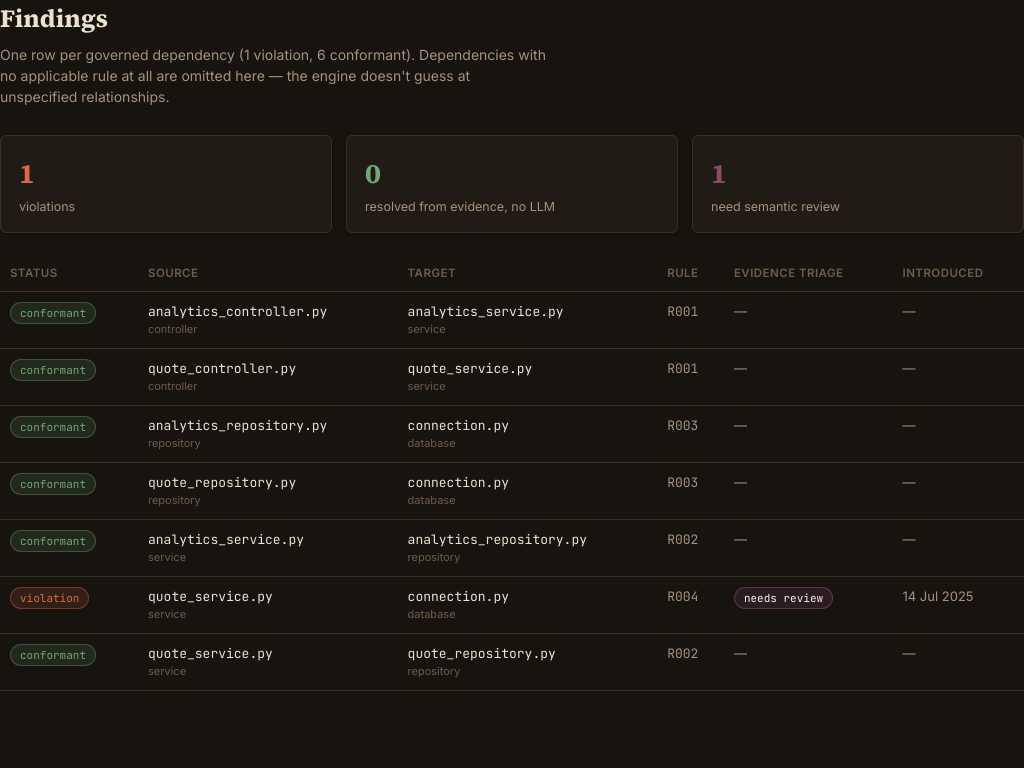
Finding detail › loads the finding scoped to its analysis run and shows all evidence sections
The image size is (1024, 768).
Click the row that starts with "violation": click(512, 604) [0,576,1023,633]
(page scrolled)
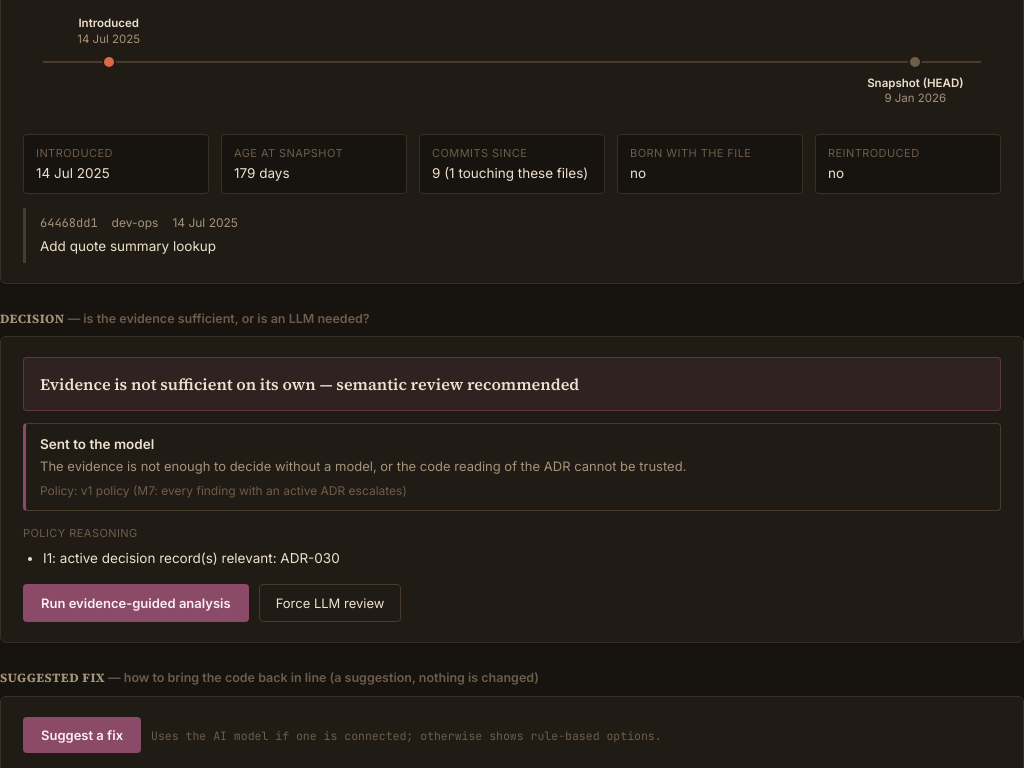
Result: the element with test id "decision-panel" is shown at [23,357,1001,622]
Result: the heading "Decision" is shown at [0,310,64,326]
Result: the element with test id "timeline" is shown at [23,0,1001,120]
